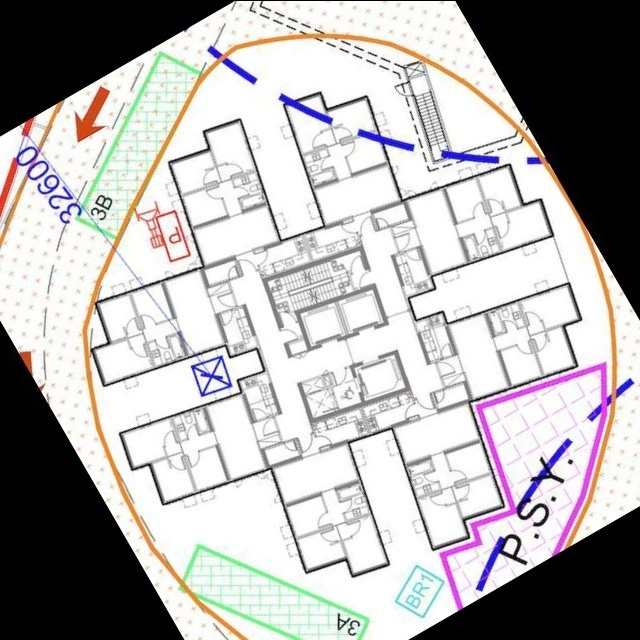tower_crane: (189, 354, 236, 400)
